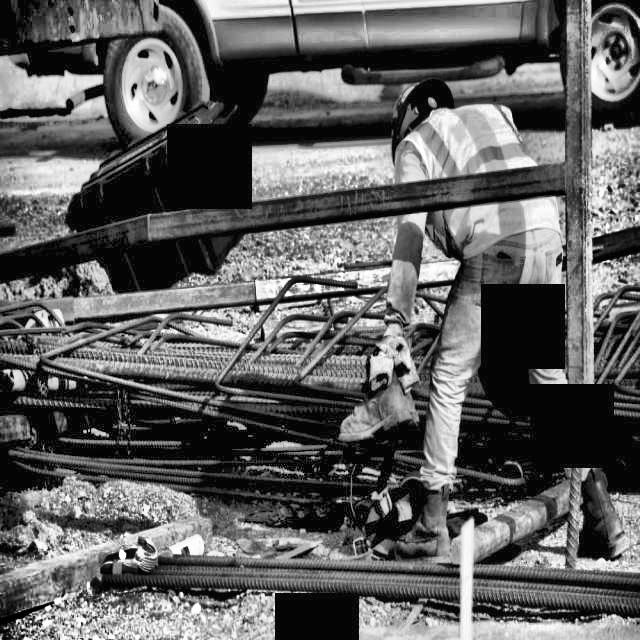safety_helmet: (378, 69, 468, 168)
safety_jacket: (390, 96, 574, 271)
